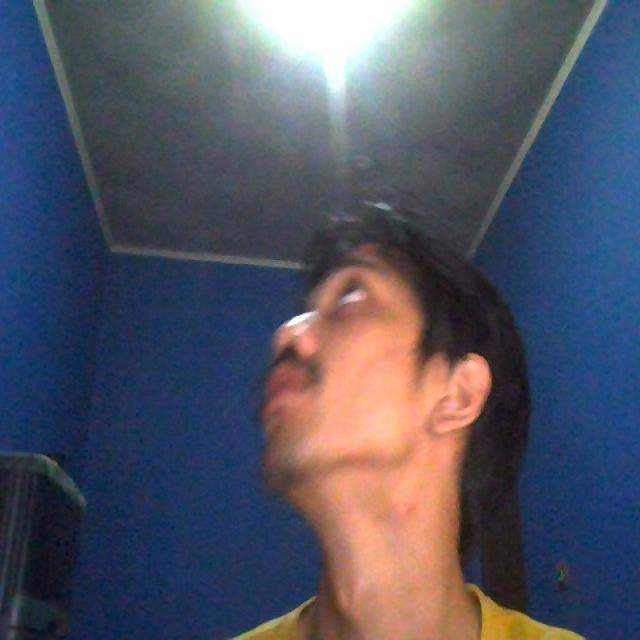Melihat kekanan: (233, 188, 546, 575)
